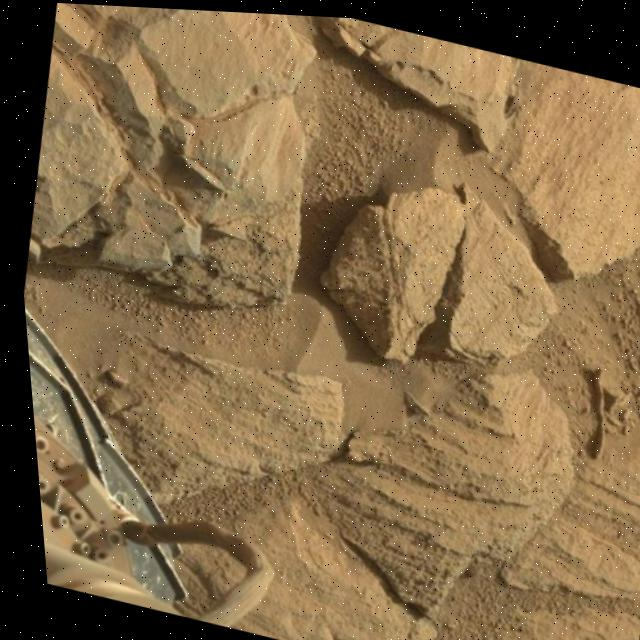mars-rocks: (315, 183, 461, 358), (426, 179, 552, 358)
